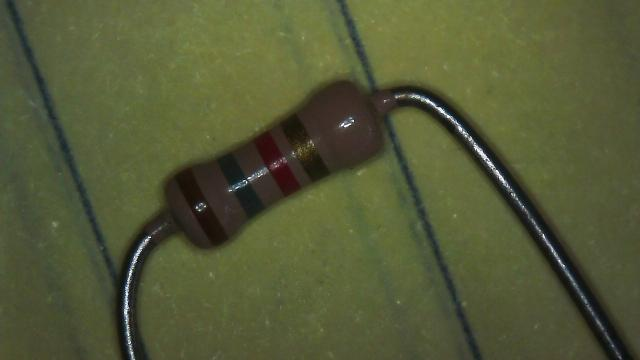brown: (174, 168, 228, 246)
gold: (280, 114, 328, 182)
grey: (218, 153, 264, 219)
red: (253, 132, 300, 196)
resistor: (122, 47, 420, 288)
